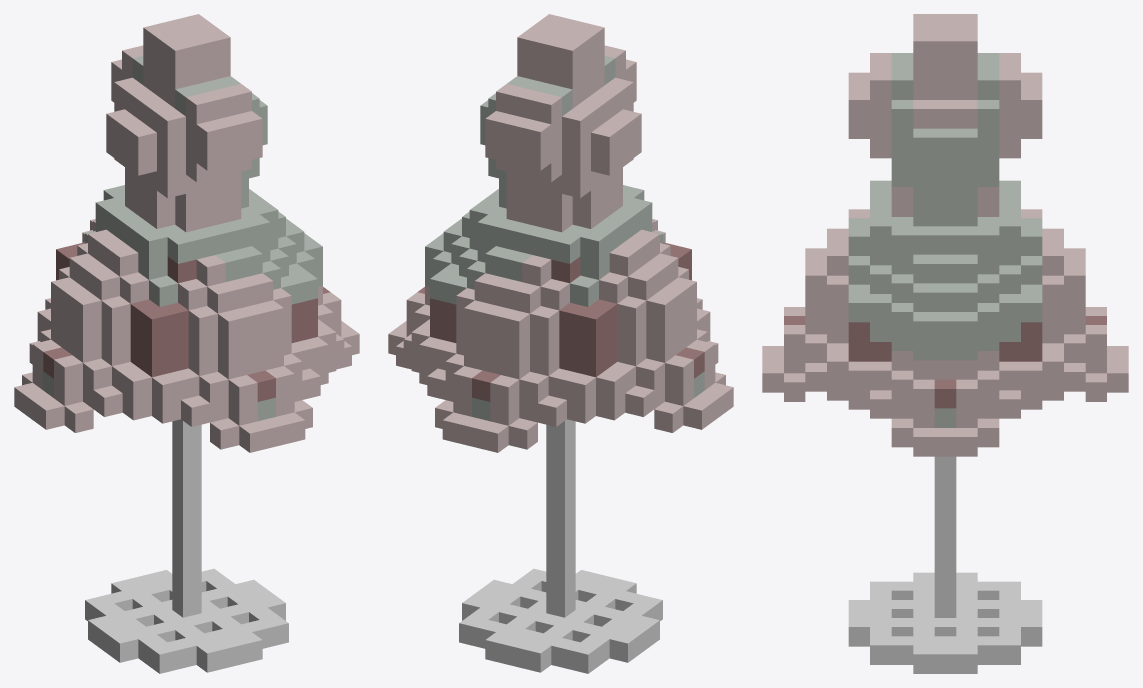
3 views of the same model, side by side, from view 1: azimuth 30°, elevation 25°; view 2: azimuth 150°, elevation 25°; view 3: azimuth 270°, elevation 25° (orthographic).
Size of the model in its own units: 0.5484 by 1 by 0.5484.
